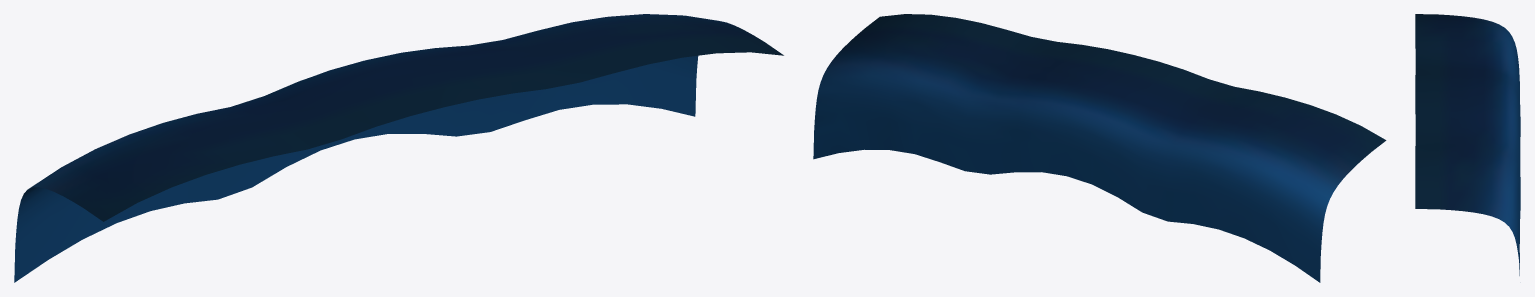
The model's file is pe_back_01.glb.
3 renders of one model, left to right at view 1: azimuth 30°, elevation 25°; view 2: azimuth 150°, elevation 25°; view 3: azimuth 270°, elevation 25°, orthographic. The views are drawn at different scales.
Parts seen in each view (by area): view 1: pe_back_01; view 2: pe_back_01; view 3: pe_back_01.
Boxes of the visible parts, x1=… form: pe_back_01: x1=14, y1=14, x2=783, y2=282; pe_back_01: x1=813, y1=14, x2=1386, y2=282; pe_back_01: x1=1415, y1=14, x2=1520, y2=275.
Size of the model in its own units: 42.57 by 9.44 by 9.75.
